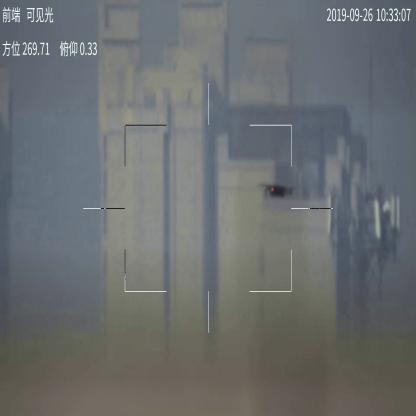uav: (257, 180, 296, 200)
